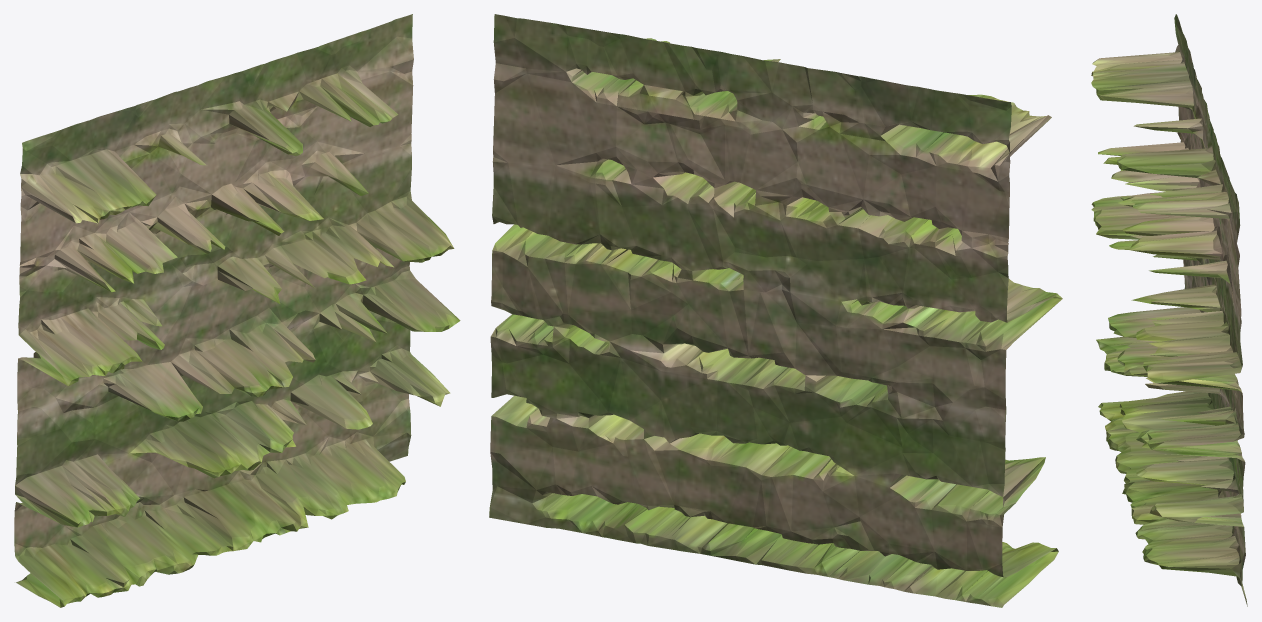
File: map_120_20.obj
The picture shows the model from 3 angles, left to right: view 1: azimuth 30°, elevation 25°; view 2: azimuth 150°, elevation 25°; view 3: azimuth 270°, elevation 25°; orthographic projection. The views are drawn at different scales.
Parts seen in each view (by area): view 1: grp1; view 2: grp1; view 3: grp1.
Part boxes in pixels (x1,y1,x2,y2): grp1: (14,14,460,607); grp1: (489,14,1062,607); grp1: (1091,14,1247,606).
Size of the model in its own units: 10 by 10 by 3.5.
Materials: 1 (1 with a texture image).
